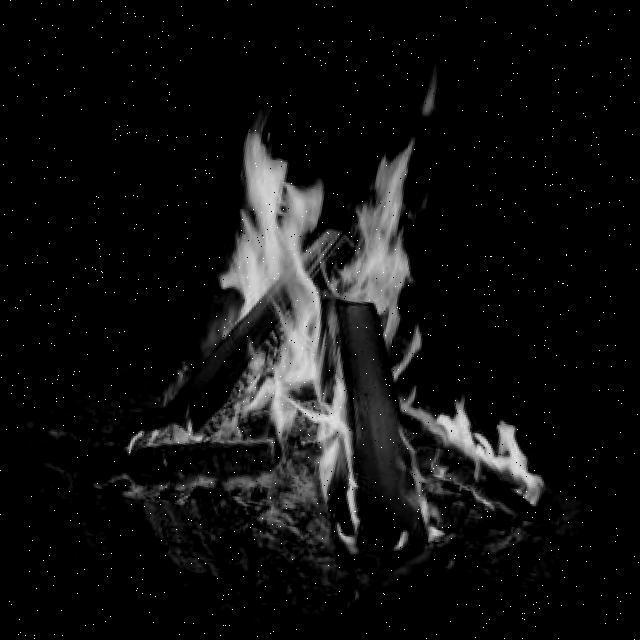fire: (164, 55, 610, 571)
